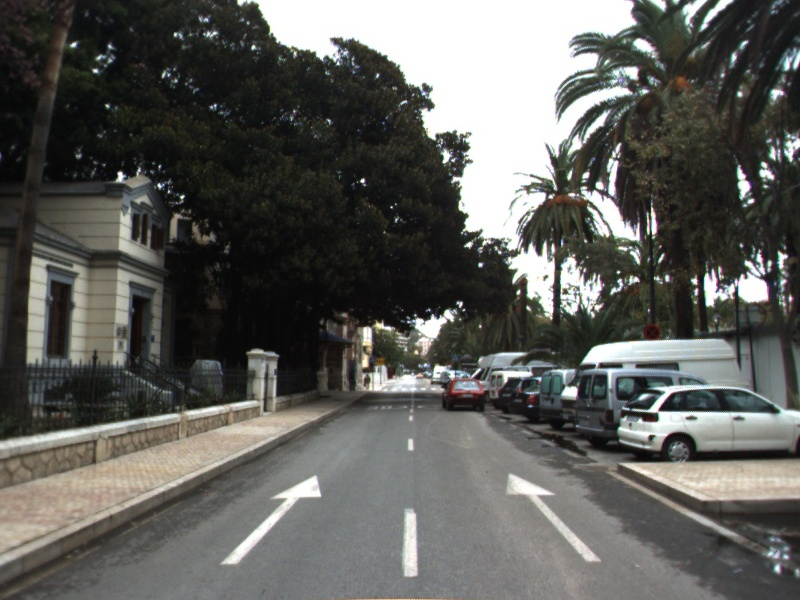STRAIGHT: (218, 473, 323, 567), (504, 471, 603, 564)
